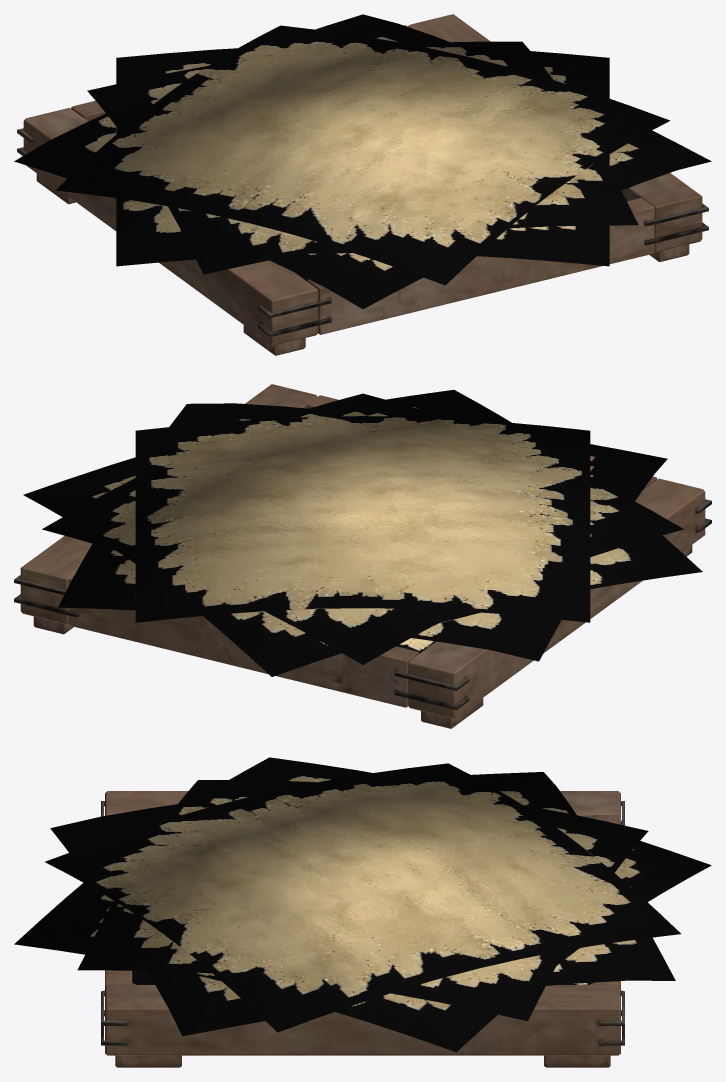
File: SM_PalBedPrimitive_983971.glb
3 renders of one model, top to bottom at view 1: azimuth 30°, elevation 25°; view 2: azimuth 150°, elevation 25°; view 3: azimuth 270°, elevation 25°, orthographic. The views are drawn at different scales.
Size of the model in its own units: 2.31 by 0.3631 by 2.31.
2 materials, 2 textured.
